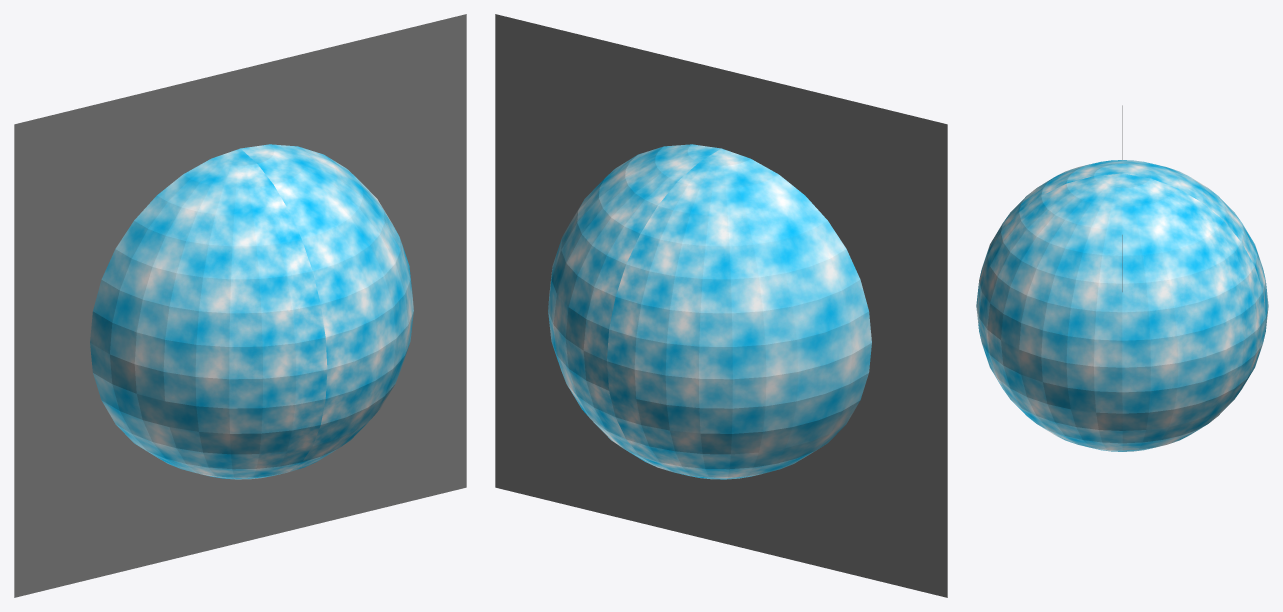
File: NewStage.fbx
3 views of the same model, side by side, from view 1: azimuth 30°, elevation 25°; view 2: azimuth 150°, elevation 25°; view 3: azimuth 270°, elevation 25° (orthographic). The views are drawn at different scales.
Visible parts, largest first — view 1: 球; view 2: 球; view 3: 球.
Part boxes in pixels (left/top/right/bottom): 球: left=14, top=14, right=466, bottom=597; 球: left=495, top=14, right=947, bottom=597; 球: left=976, top=105, right=1268, bottom=451.
Bounding box in the file's own units: 1683 × 1683 × 1120.
